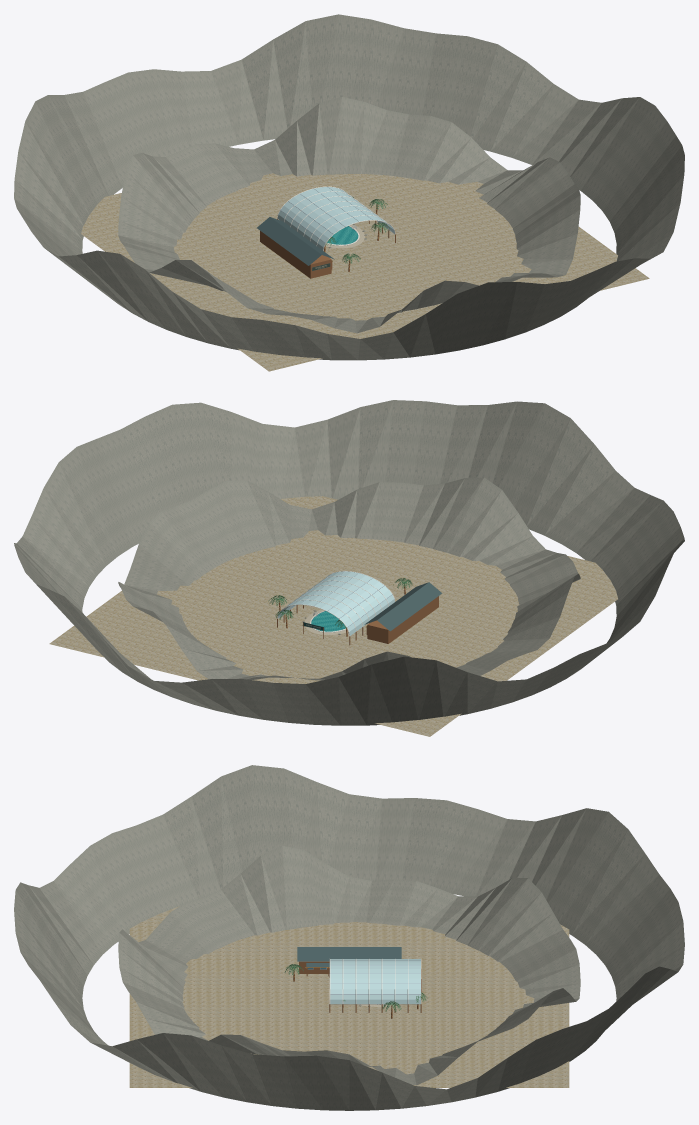
Rendered from trip-springs.glb.
3 views of the same model, one above another, from view 1: azimuth 30°, elevation 25°; view 2: azimuth 150°, elevation 25°; view 3: azimuth 270°, elevation 25° (orthographic).
Visible parts, largest first — view 1: springs; view 2: springs; view 3: springs.
Part boxes in pixels (x1=…): springs: x1=14, y1=14, x2=684, y2=371; springs: x1=14, y1=400, x2=684, y2=736; springs: x1=14, y1=765, x2=684, y2=1110.
Size of the model in its own units: 206 by 32.96 by 206.
17 materials, 7 textured.
